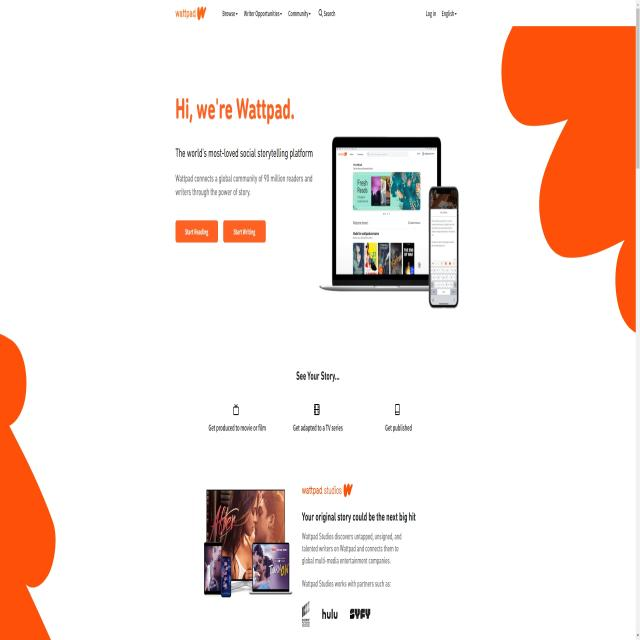menu-bar: (422, 4, 459, 24)
tab-bar: (214, 1, 346, 24)
